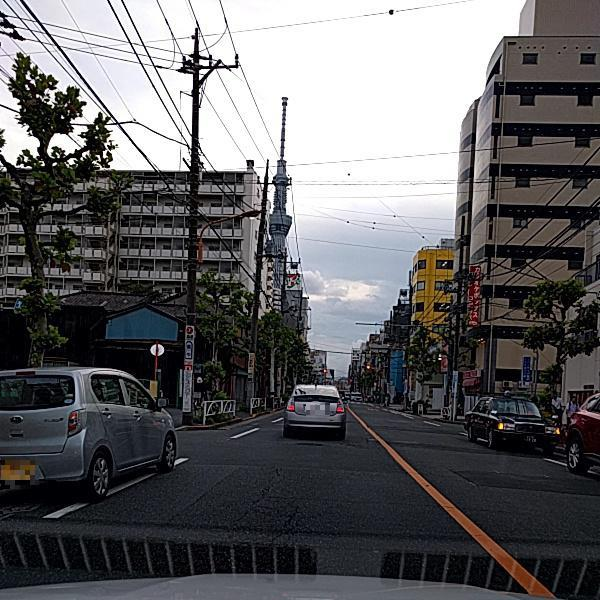D20: (235, 466, 319, 538)
